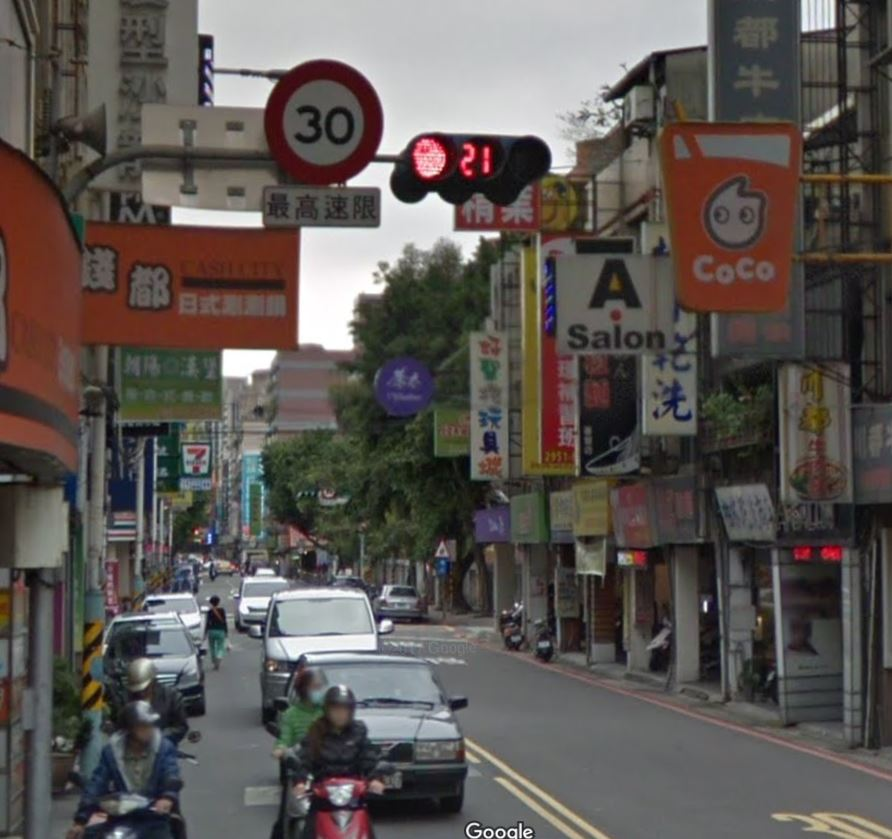Speed_limit_30km: (263, 59, 384, 187)
Traffic_light_red: (394, 131, 554, 194)
